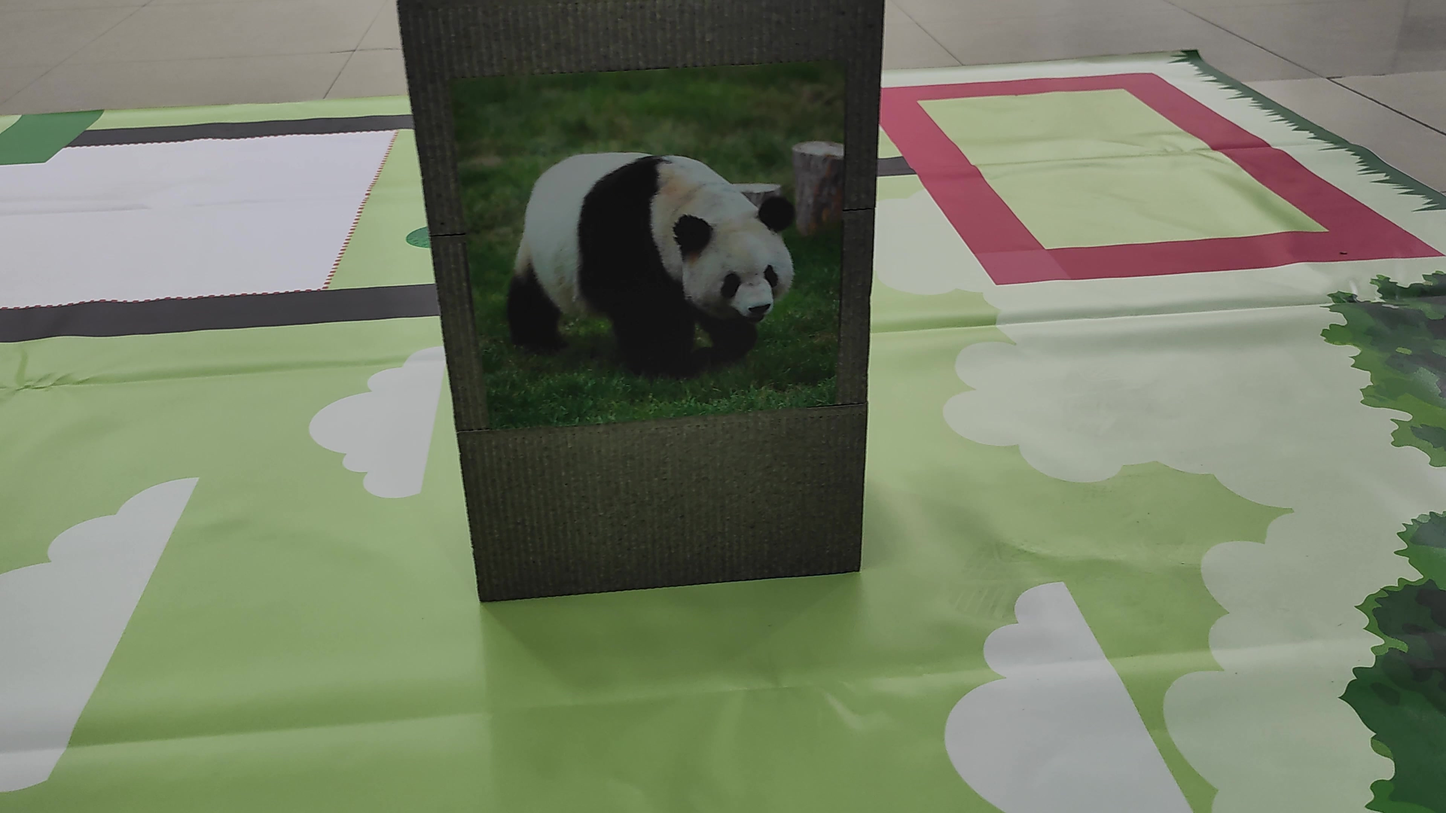panda: (470, 135, 827, 389)
